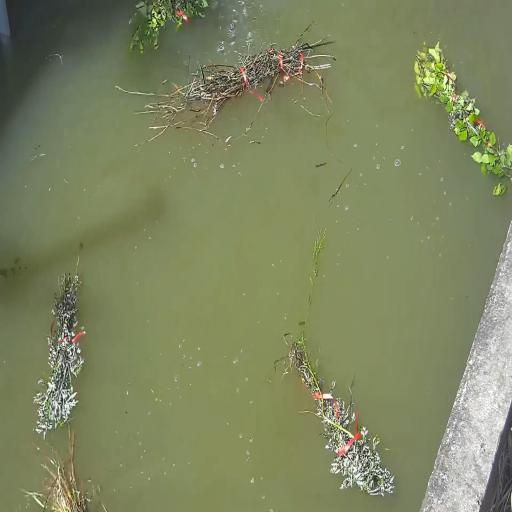twig: (122, 27, 335, 136), (287, 329, 394, 495), (414, 41, 512, 182), (34, 257, 85, 438), (25, 428, 90, 512), (130, 0, 210, 53)
